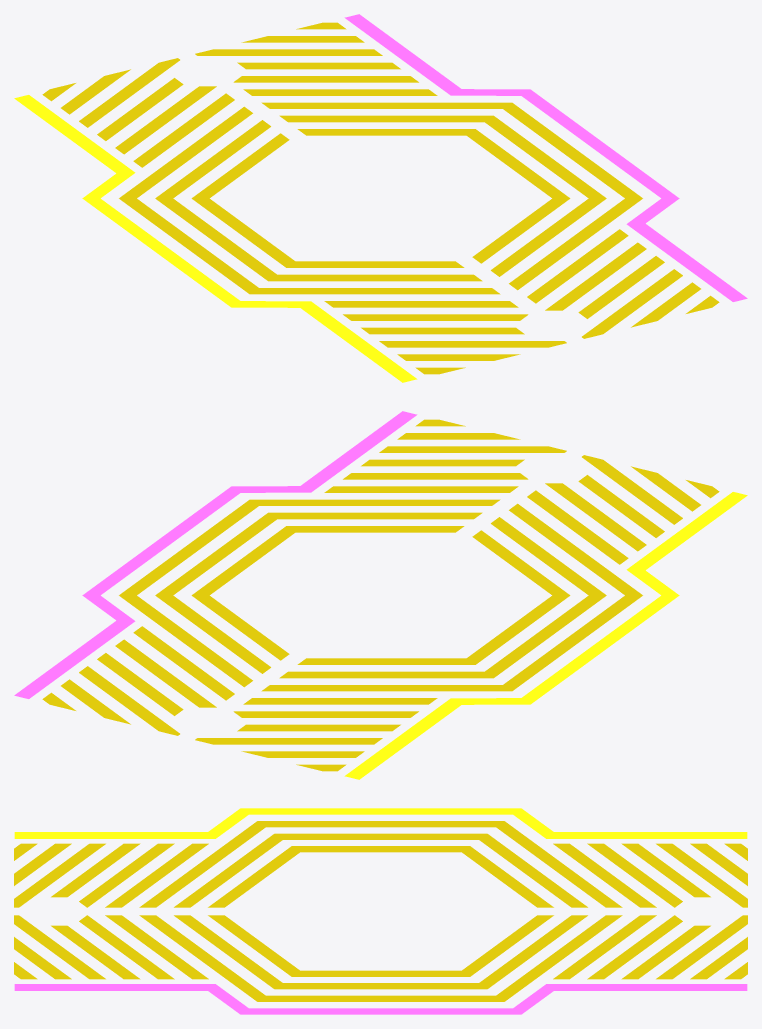
Rendered from mesh_Factory_HockeyFloor.fbx.
The picture shows the model from 3 angles, top to bottom: view 1: azimuth 30°, elevation 25°; view 2: azimuth 150°, elevation 25°; view 3: azimuth 270°, elevation 25°; orthographic projection. The views are drawn at different scales.
Parts seen in each view (by area): view 1: mesh_Factory_HockeyFloor.004; view 2: mesh_Factory_HockeyFloor.004; view 3: mesh_Factory_HockeyFloor.004.
Boxes of the visible parts, x1,y1,x2,y2 form: mesh_Factory_HockeyFloor.004: (14, 14, 747, 382); mesh_Factory_HockeyFloor.004: (14, 411, 747, 779); mesh_Factory_HockeyFloor.004: (14, 808, 747, 1014).
Bounding box in the file's own units: 20.82 × 3.1e-06 × 31.34.
